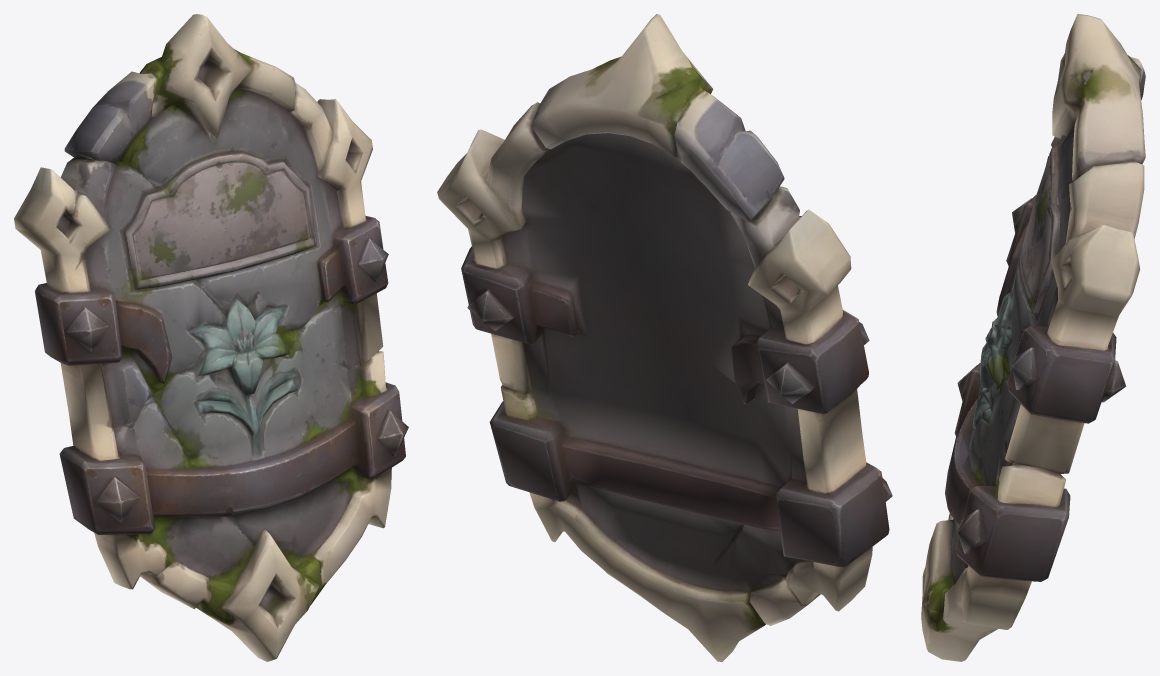
File: tll_ch1_tombshield.glb
The picture shows the model from 3 angles, left to right: view 1: azimuth 30°, elevation 25°; view 2: azimuth 150°, elevation 25°; view 3: azimuth 270°, elevation 25°; orthographic projection. The views are drawn at different scales.
Parts seen in each view (by area): view 1: tripo_node_815b335f-c6f0-49ed-ac40-0a65c3a025ca; view 2: tripo_node_815b335f-c6f0-49ed-ac40-0a65c3a025ca; view 3: tripo_node_815b335f-c6f0-49ed-ac40-0a65c3a025ca.
Part boxes in pixels (x1=…): tripo_node_815b335f-c6f0-49ed-ac40-0a65c3a025ca: x1=14, y1=14, x2=408, y2=661; tripo_node_815b335f-c6f0-49ed-ac40-0a65c3a025ca: x1=437, y1=14, x2=892, y2=661; tripo_node_815b335f-c6f0-49ed-ac40-0a65c3a025ca: x1=921, y1=14, x2=1145, y2=661.
Bounding box in the file's own units: 0.5073 × 0.85 × 0.2678.
Materials: 1 (1 with a texture image).
